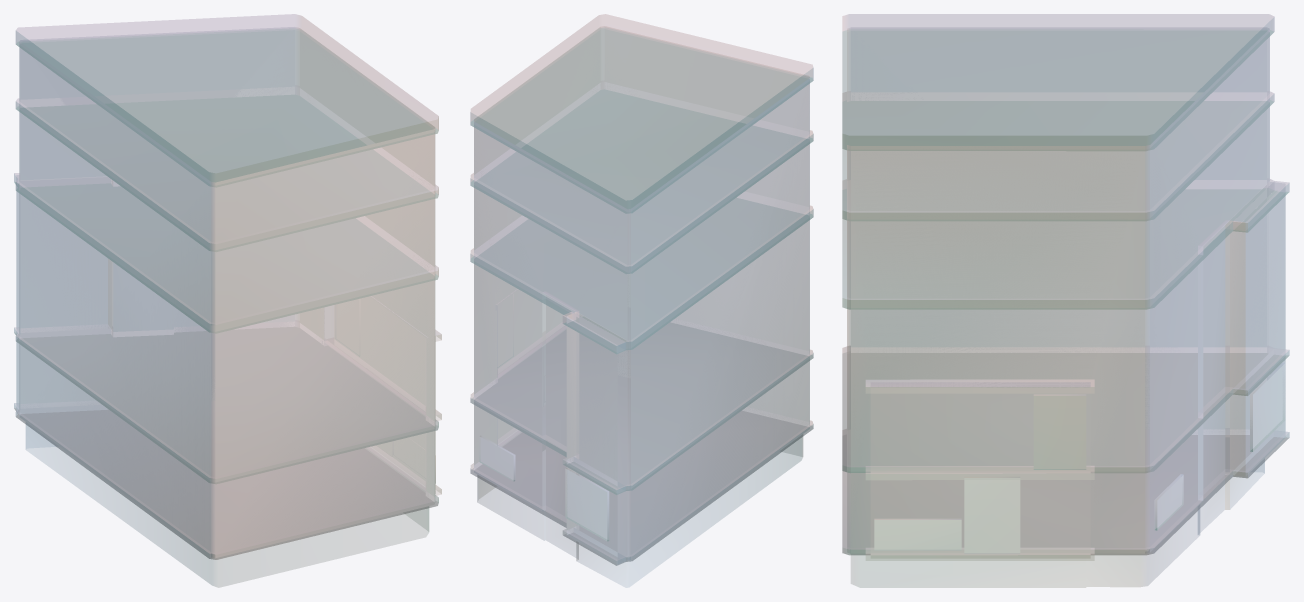
Rendered from CEN_E4E1.preview.glb.
3 views of the same model, side by side, from view 1: azimuth 30°, elevation 25°; view 2: azimuth 150°, elevation 25°; view 3: azimuth 270°, elevation 25° (orthographic). The views are drawn at different scales.
Visible parts, largest first — view 1: obj_3d50, obj_1630, obj_1ab0, obj_7b0, obj_4b0, obj_1c0; view 2: obj_3d50, obj_1630, obj_1ab0, obj_e30, obj_7b0, obj_4b0, obj_4110, obj_4b80, obj_1c0, obj_10b0, obj_bb0; view 3: obj_3d50, obj_1630, obj_1d00, obj_1ab0, obj_e30, obj_4b80, obj_7b0, obj_bb0, obj_4510, obj_4790, obj_4110, obj_4b0 (+1 smaller).
Part boxes in pixels (<box>): obj_3d50: <box>14,14,441,559</box>; obj_1630: <box>19,27,435,557</box>; obj_1ab0: <box>20,48,434,500</box>; obj_7b0: <box>15,14,438,187</box>; obj_4b0: <box>25,422,425,587</box>; obj_1c0: <box>16,177,19,408</box>; obj_3d50: <box>470,14,813,565</box>; obj_1630: <box>474,26,809,559</box>; obj_1ab0: <box>474,84,809,469</box>; obj_e30: <box>546,295,617,563</box>; obj_7b0: <box>470,14,813,213</box>; obj_4b0: <box>477,435,803,587</box>; obj_4110: <box>479,436,608,541</box>; obj_4b80: <box>480,437,606,540</box>; obj_1c0: <box>618,342,627,563</box>; obj_10b0: <box>566,312,579,534</box>; obj_bb0: <box>479,479,578,559</box>; obj_3d50: <box>842,14,1289,560</box>; obj_1630: <box>847,28,1269,552</box>; obj_1d00: <box>871,388,1089,557</box>; obj_1ab0: <box>851,40,1266,434</box>; obj_e30: <box>1204,185,1285,493</box>; obj_4b80: <box>875,364,1284,553</box>; obj_7b0: <box>842,14,1274,150</box>; obj_bb0: <box>851,480,1229,587</box>; obj_4510: <box>874,477,1019,553</box>; obj_4790: <box>1034,395,1085,469</box>; obj_4110: <box>1155,362,1284,530</box>; obj_4b0: <box>1140,459,1264,586</box>.
Size of the model in its own units: 63.81 by 106 by 94.67.
